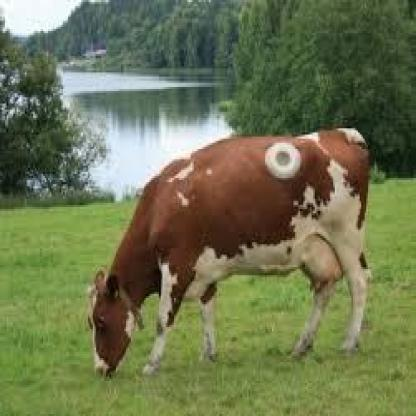cow: (89, 131, 367, 378)
